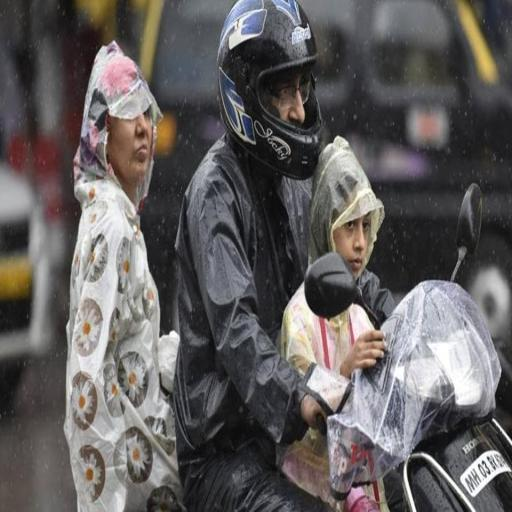helmet: (176, 0, 326, 510)
